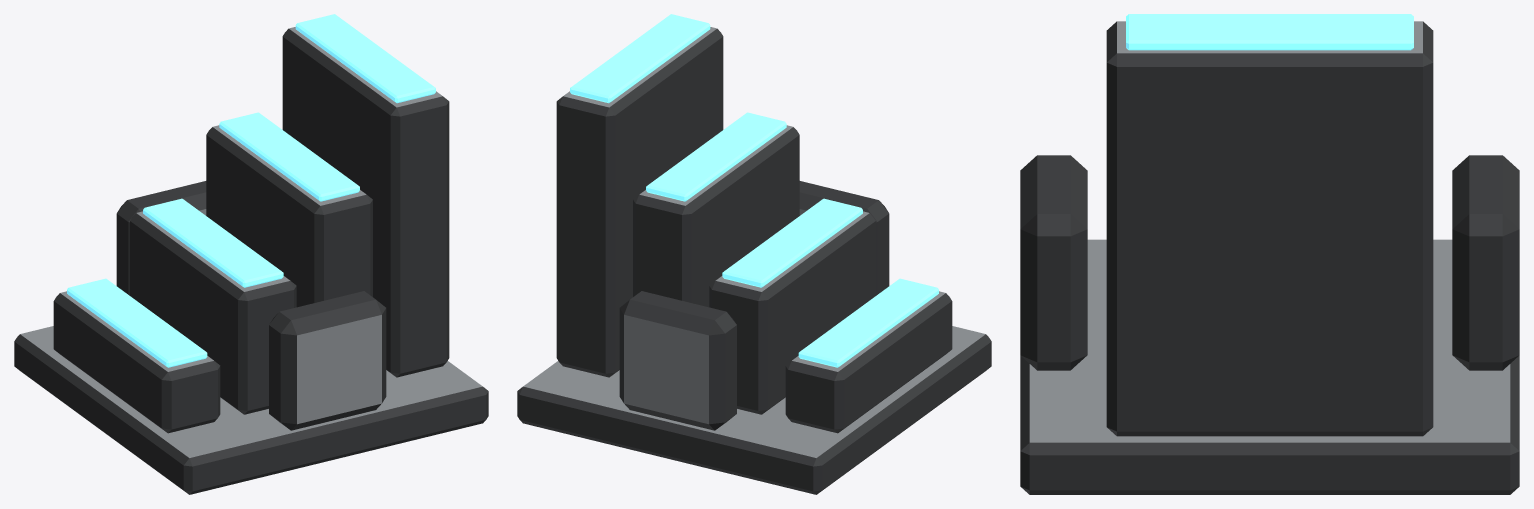
Rendered from R4X_ModuleAmplifier_LOD1.fbx.
The picture shows the model from 3 angles, left to right: view 1: azimuth 30°, elevation 25°; view 2: azimuth 150°, elevation 25°; view 3: azimuth 270°, elevation 25°; orthographic projection. The views are drawn at different scales.
Visible parts, largest first — view 1: R4X_ModuleAmplifier_LOD1; view 2: R4X_ModuleAmplifier_LOD1; view 3: R4X_ModuleAmplifier_LOD1.
Boxes of the visible parts, x1=… form: R4X_ModuleAmplifier_LOD1: x1=14, y1=14, x2=488, y2=494; R4X_ModuleAmplifier_LOD1: x1=517, y1=14, x2=991, y2=494; R4X_ModuleAmplifier_LOD1: x1=1020, y1=14, x2=1519, y2=494.
Size of the model in its own units: 0.52 by 0.512 by 0.52.
